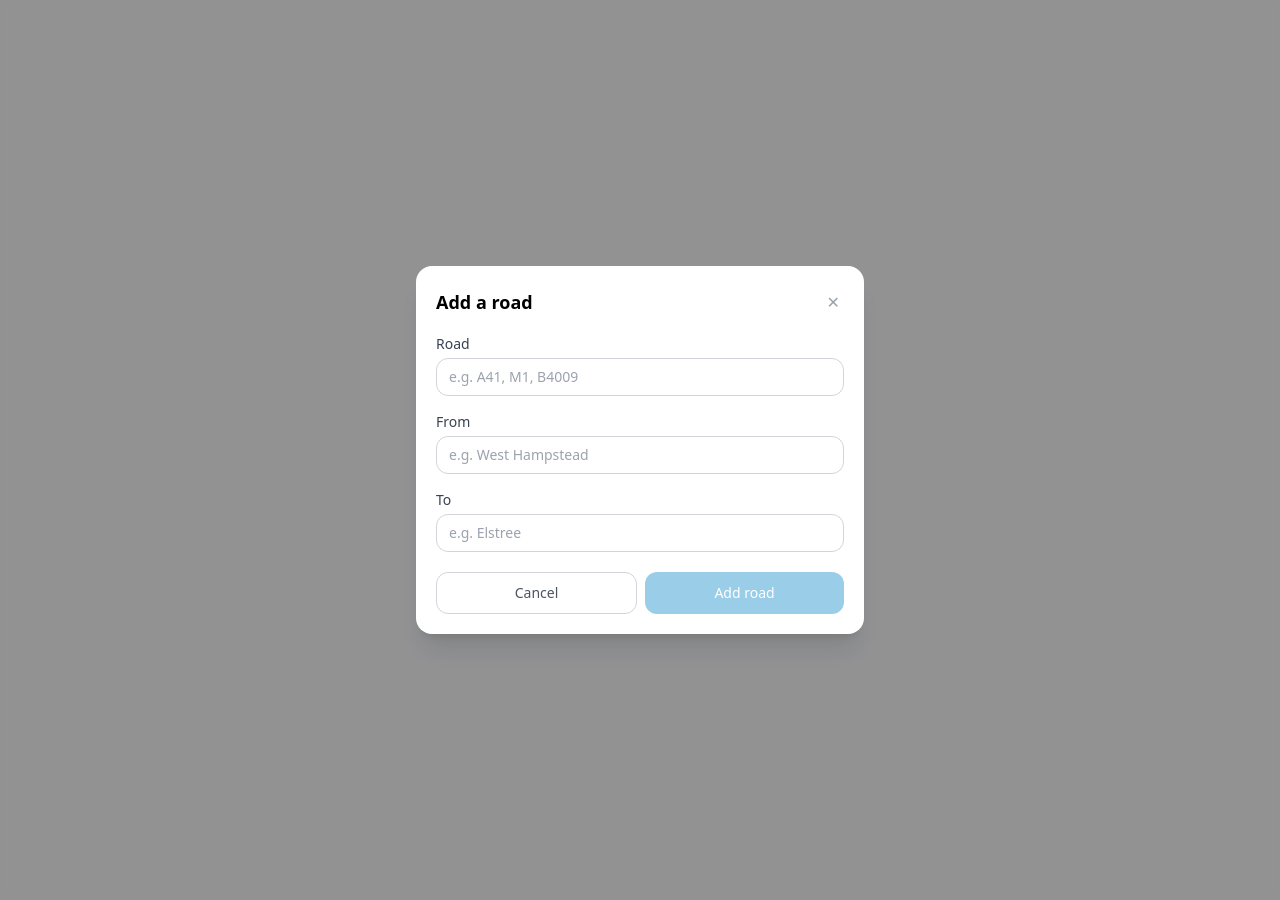
it: AddRoadModal › shows name field after both endpoints are selected
In the field with placeholder "e.g. A41, M1, B4009": (640, 377) [436, 358, 844, 396], type "A41"
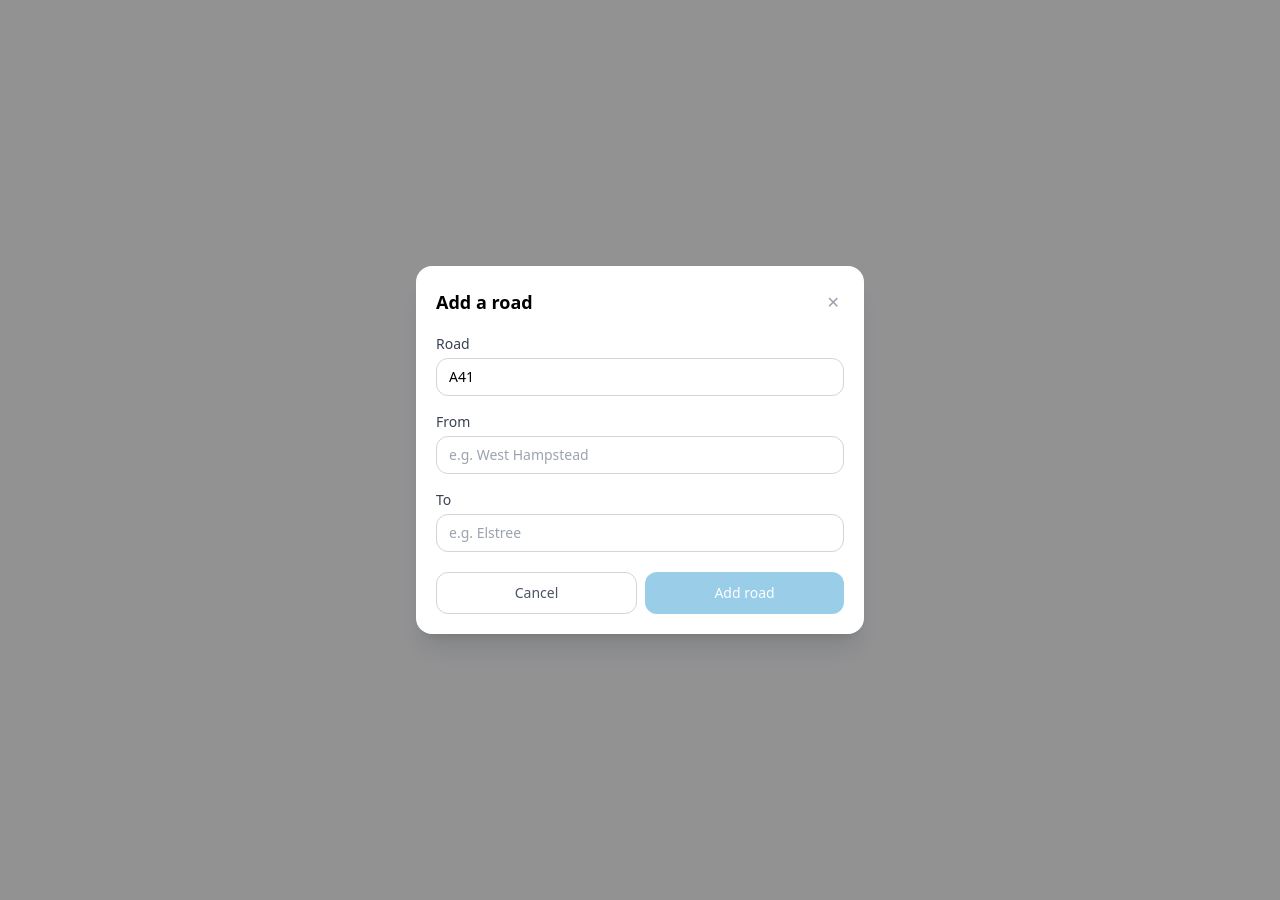
In the search field with placeholder "e.g. West Hampstead": (640, 455) [436, 436, 844, 474], type "West"
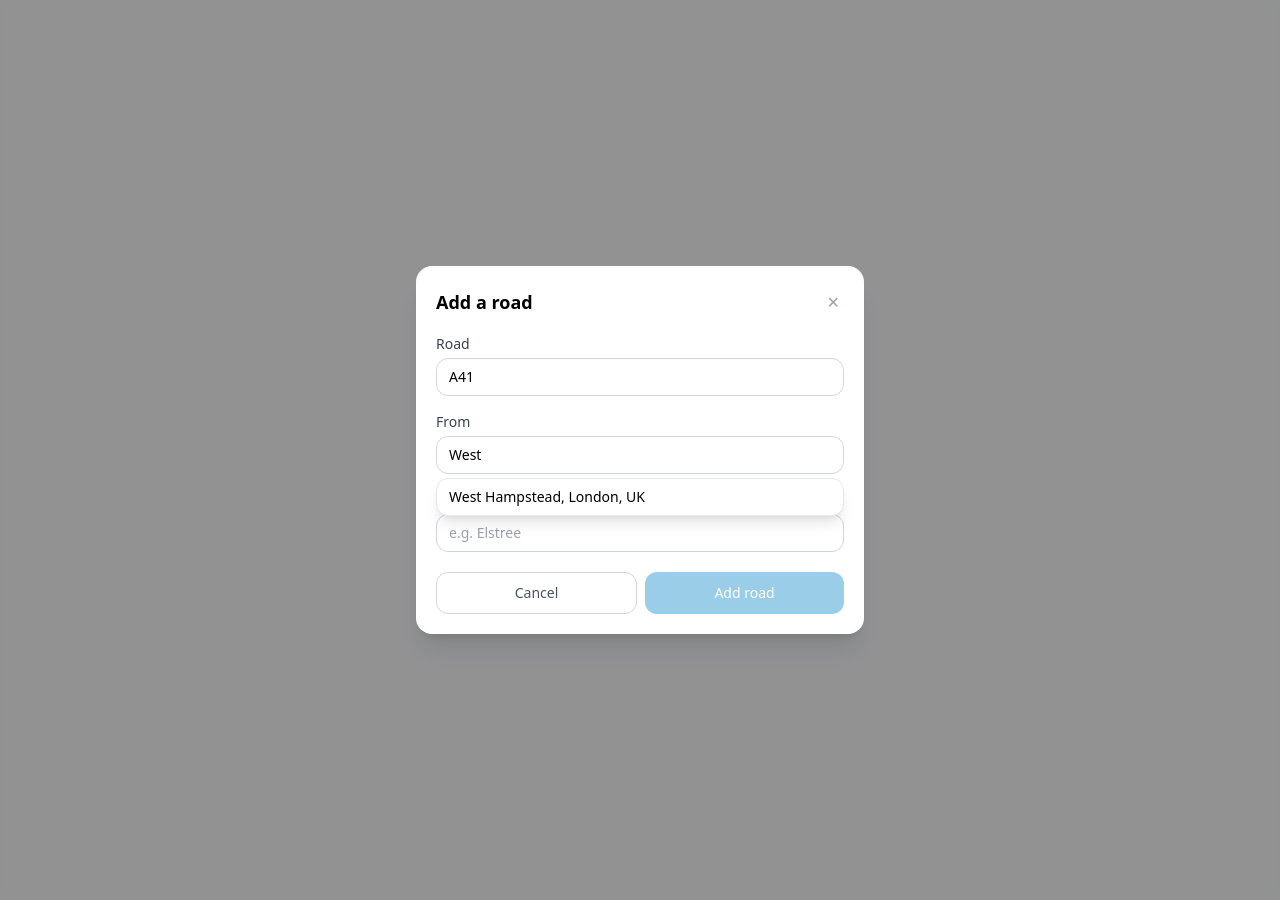
Click the button "West Hampstead, London, UK": (640, 497) [437, 479, 843, 515]
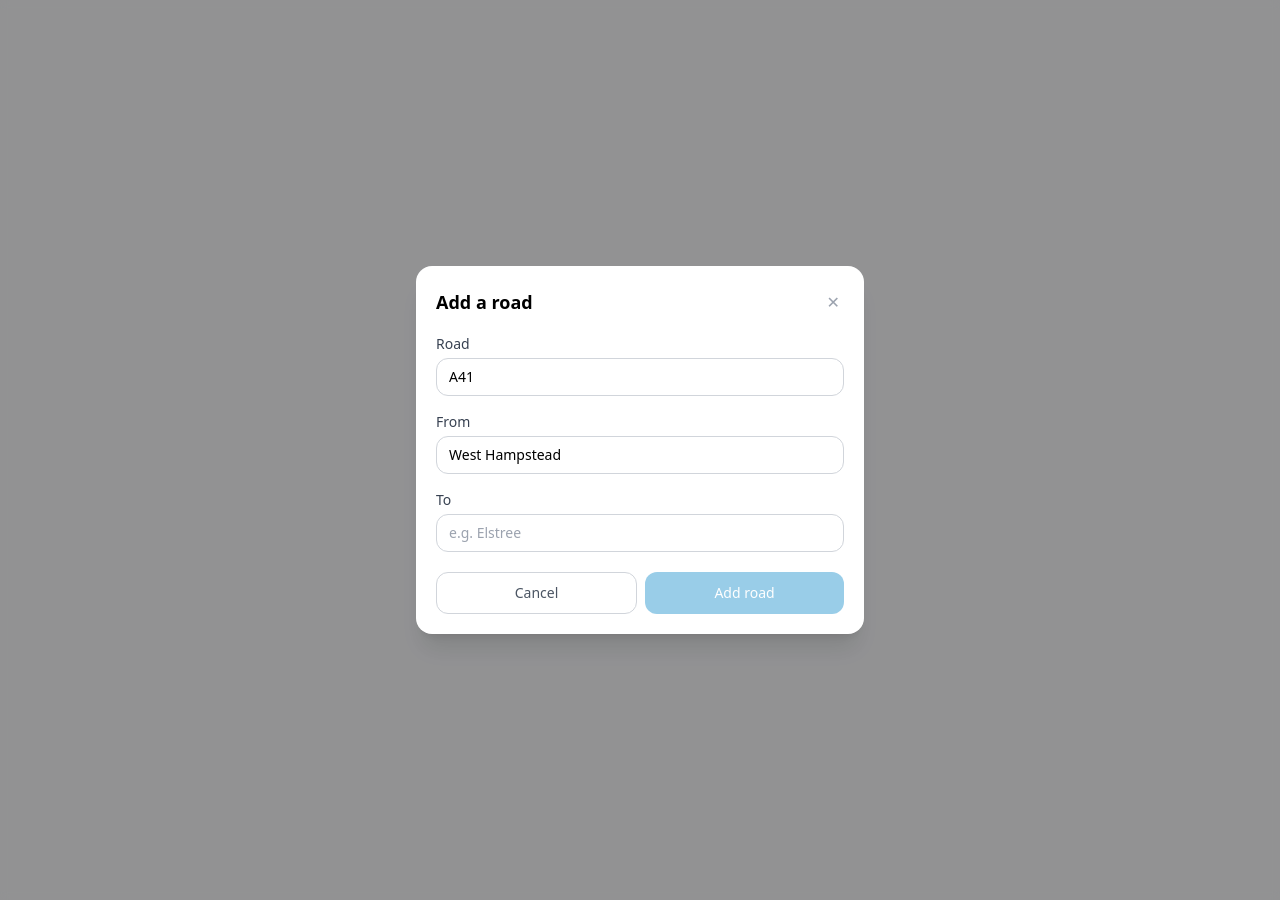
In the search field with placeholder "e.g. Elstree": (640, 533) [436, 514, 844, 552], type "Elst"
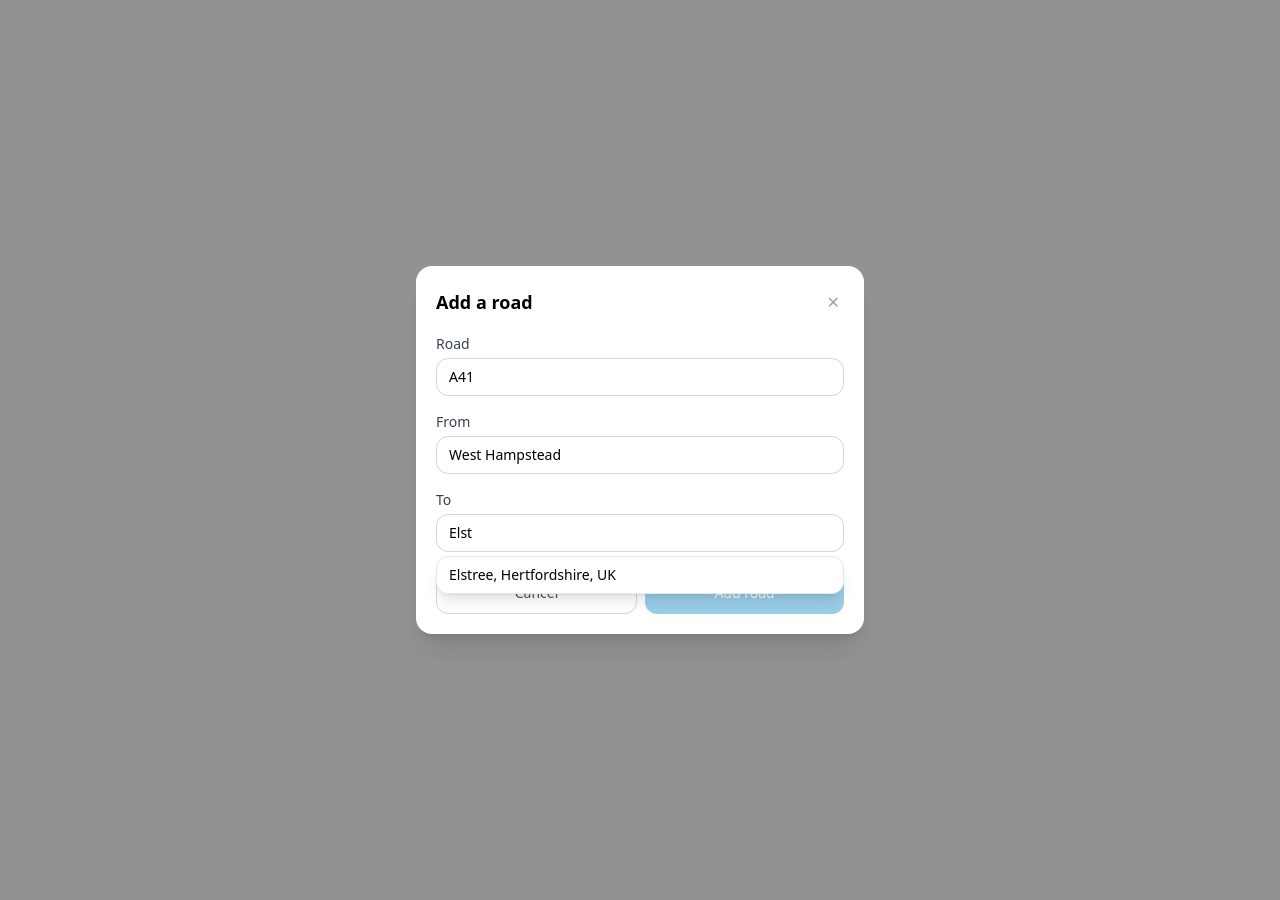
Click the button "Elstree, Hertfordshire, UK": (533, 574) [437, 557, 843, 593]
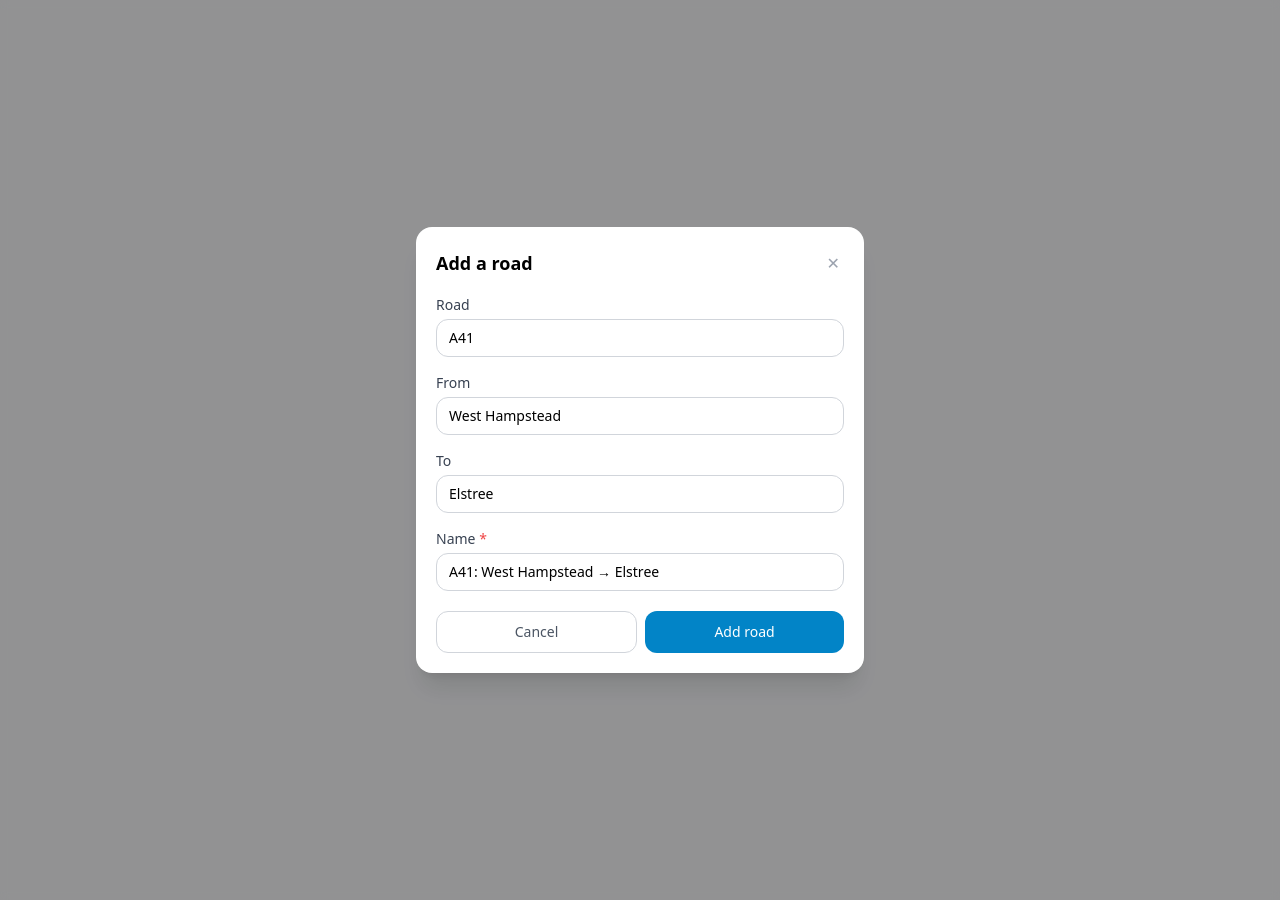
Check: the field with placeholder "e.g. A41: West Hampstead → Elstree" below "Name" is shown, box [436, 553, 844, 591]
